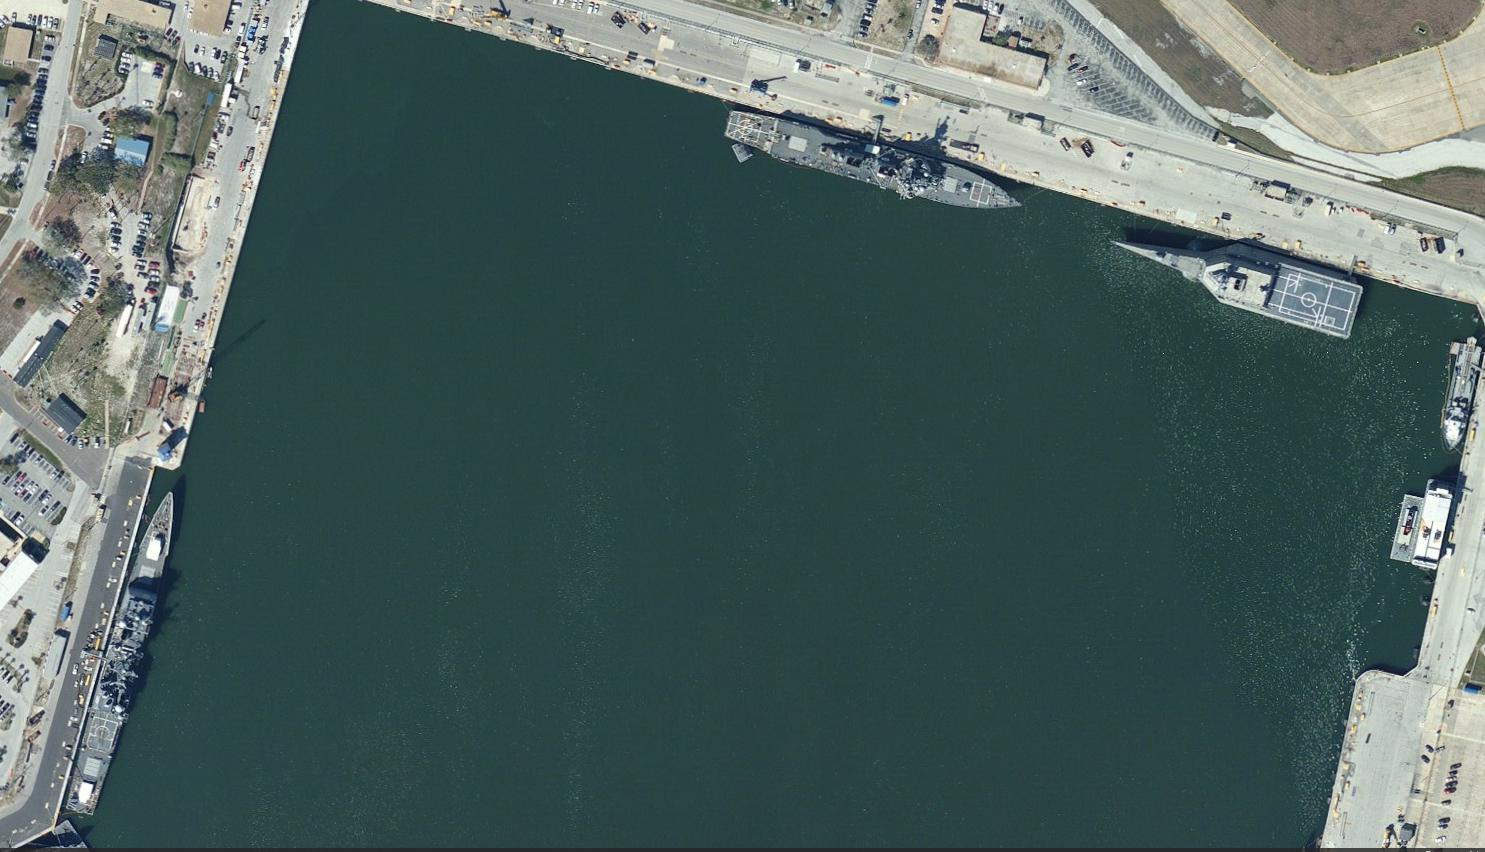destroyer: (55, 486, 182, 821)
fregate: (719, 99, 1029, 222)
littoral combat ship: (1110, 231, 1370, 343)
